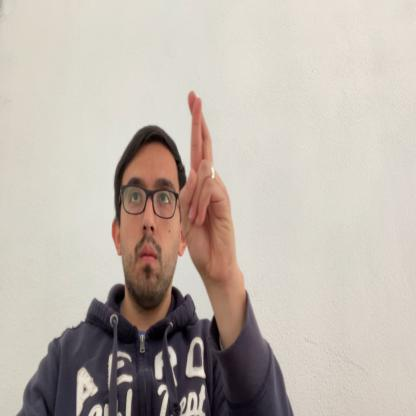R: (178, 88, 235, 290)
